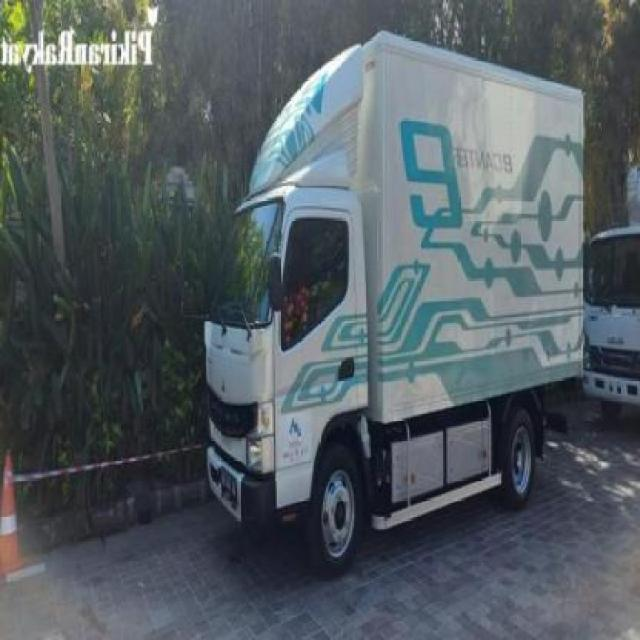truck: (197, 29, 582, 574)
